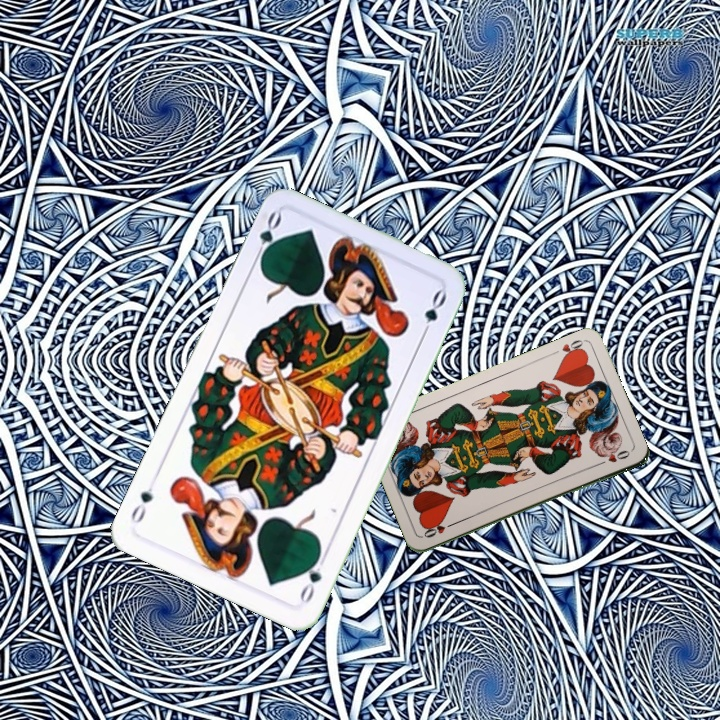GO: (249, 208, 284, 267), (295, 549, 329, 606)
HO: (420, 518, 458, 540), (558, 335, 587, 361)
